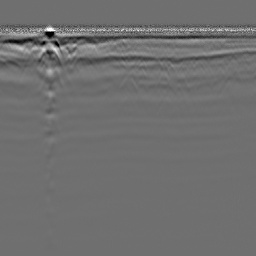cavity: (117, 73, 138, 91)
